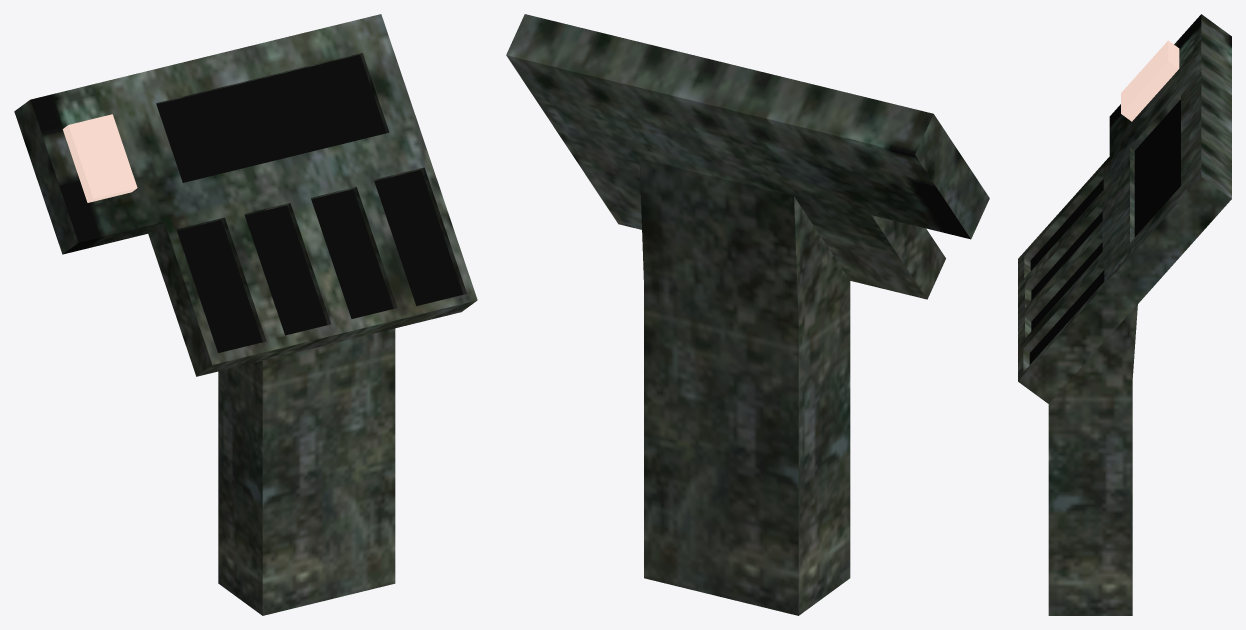
File: DNAInject.glb
3 renders of one model, left to right at view 1: azimuth 30°, elevation 25°; view 2: azimuth 150°, elevation 25°; view 3: azimuth 270°, elevation 25°, orthographic. The views are drawn at different scales.
Visible parts, largest first — view 1: Cube; view 2: Cube; view 3: Cube.
Part boxes in pixels (left/top/right/bottom): Cube: left=14, top=14, right=477, bottom=615; Cube: left=506, top=14, right=989, bottom=615; Cube: left=1018, top=14, right=1231, bottom=615.
Bounding box in the file's own units: 1.25 × 1.69 × 0.696.
3 materials, 1 textured.
